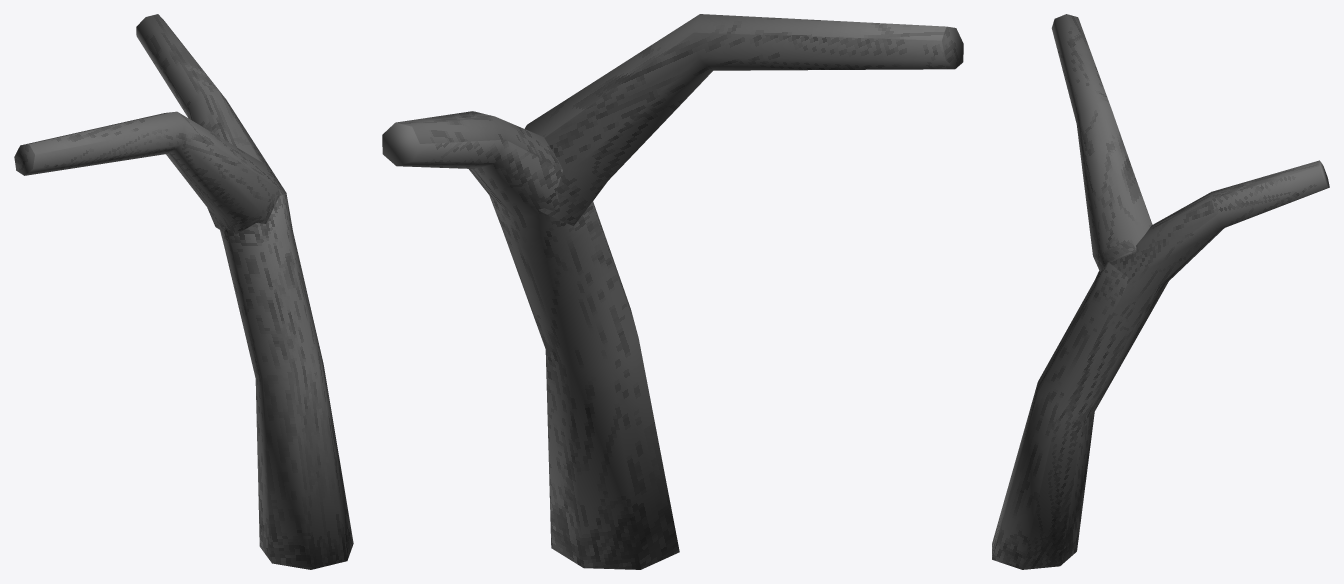
Rendered from Tree001.glb.
3 renders of one model, left to right at view 1: azimuth 30°, elevation 25°; view 2: azimuth 150°, elevation 25°; view 3: azimuth 270°, elevation 25°, orthographic. The views are drawn at different scales.
Visible parts, largest first — view 1: Tree001; view 2: Tree001; view 3: Tree001.
Boxes of the visible parts, x1,y1,x2,y2 form: Tree001: (14,14,353,569); Tree001: (382,14,963,569); Tree001: (992,14,1329,569).
Size of the model in its own units: 4.6 by 6.45 by 4.7.
Materials: 1 (1 with a texture image).
